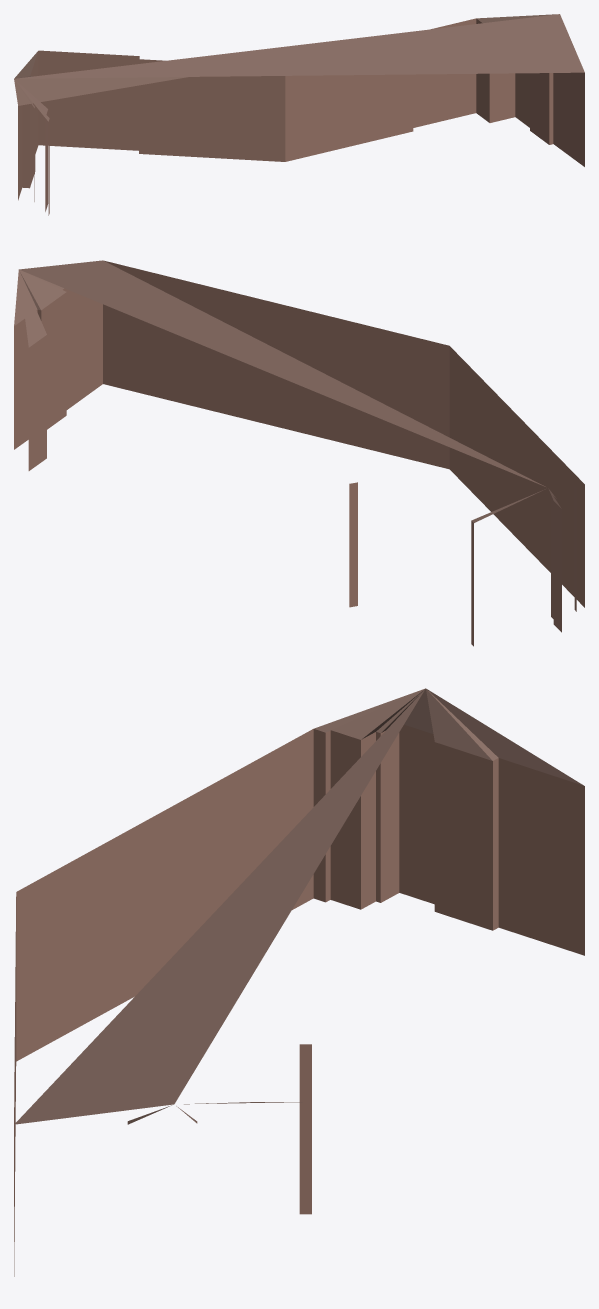
File: c_1631_17832_buildings_residential.glb
3 views of the same model, one above another, from view 1: azimuth 30°, elevation 25°; view 2: azimuth 150°, elevation 25°; view 3: azimuth 270°, elevation 25° (orthographic). The views are drawn at different scales.
Parts seen in each view (by area): view 1: geometry_0; view 2: geometry_0; view 3: geometry_0.
Boxes of the visible parts, left/top/right/bottom form: geometry_0: left=14, top=14, right=584, bottom=215; geometry_0: left=14, top=260, right=584, bottom=646; geometry_0: left=14, top=688, right=584, bottom=1276.
Size of the model in its own units: 83.62 by 19.3 by 48.17.
